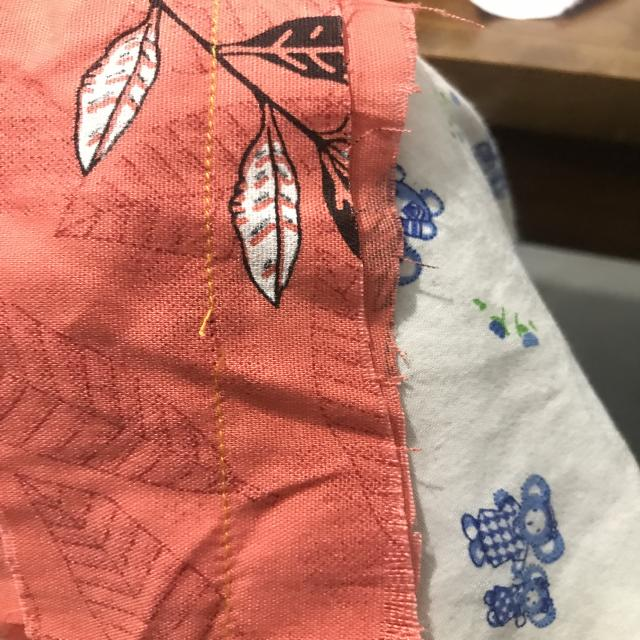broken: (189, 293, 245, 396)
good: (197, 142, 224, 238)
